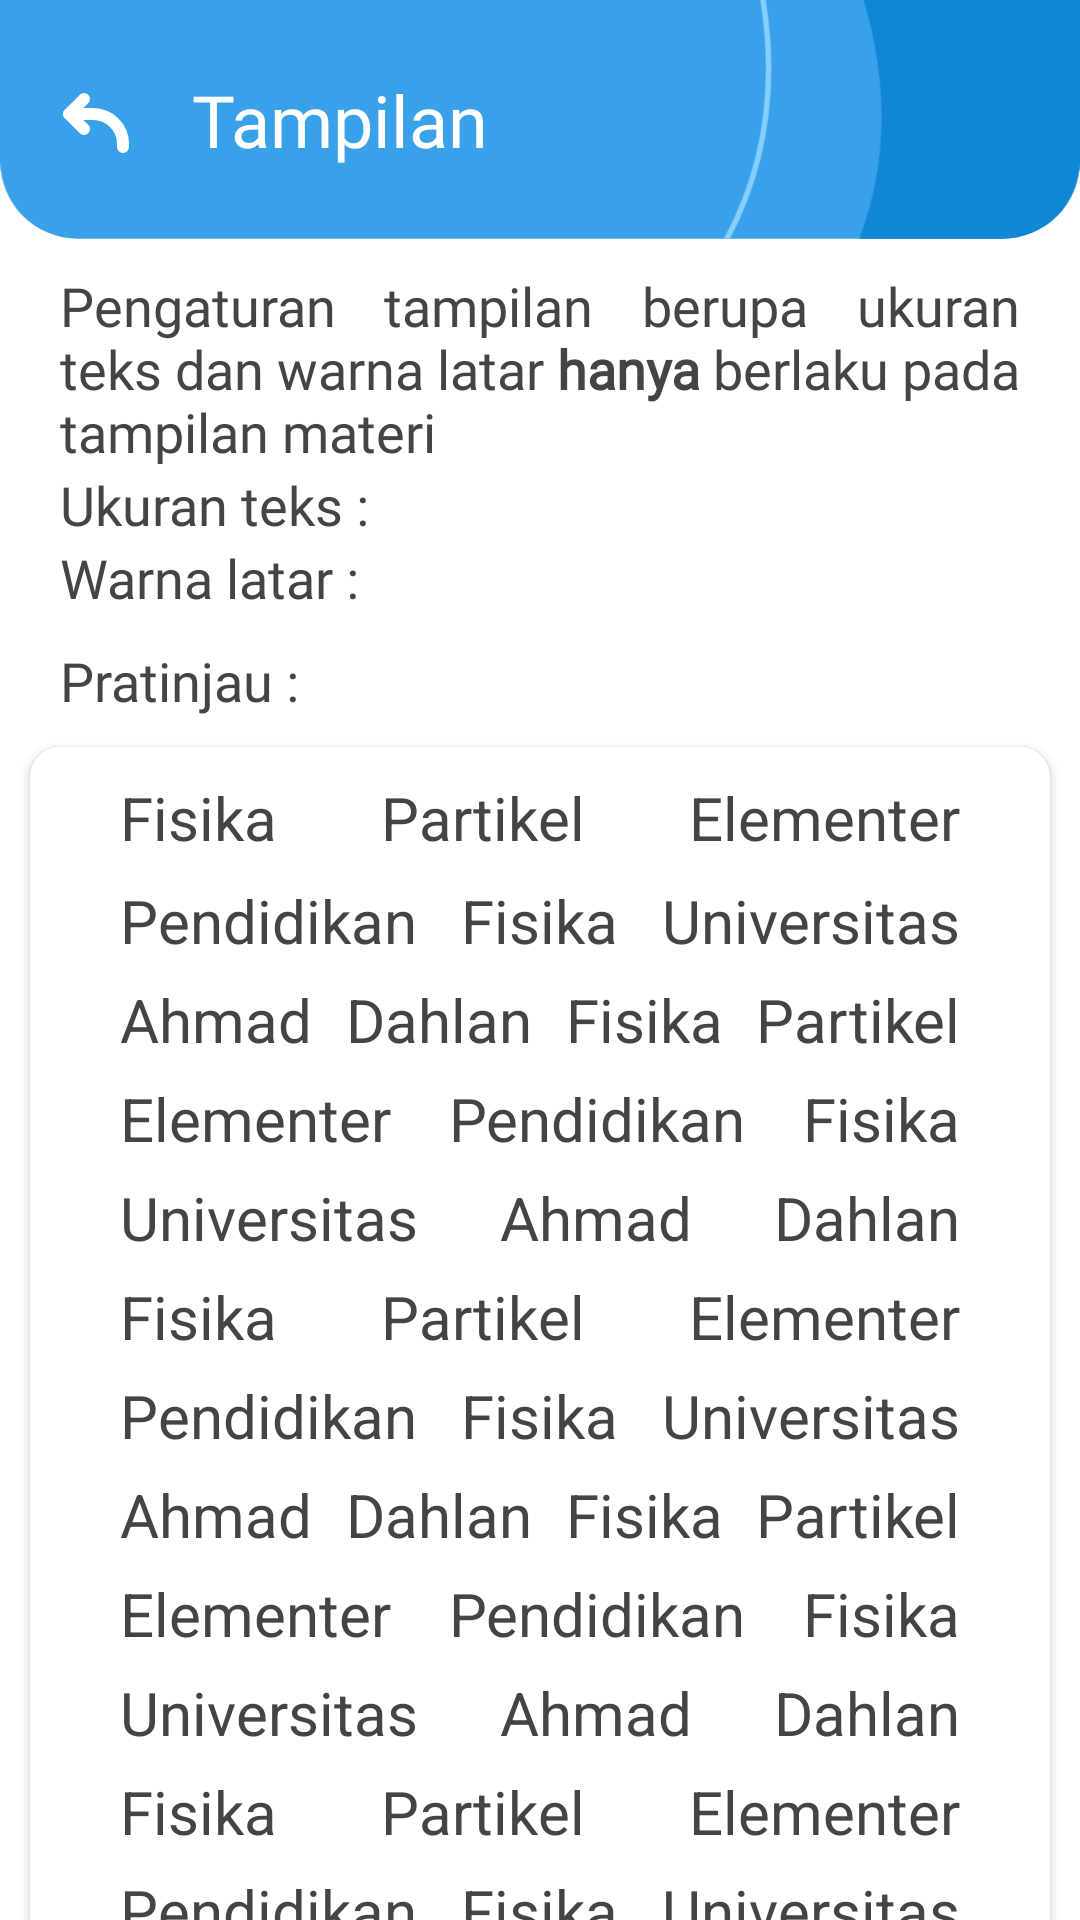

Point at icon controls on the screen. Image size 1080px x 1920px, points as (x,y).
arrow back: (96,123)
